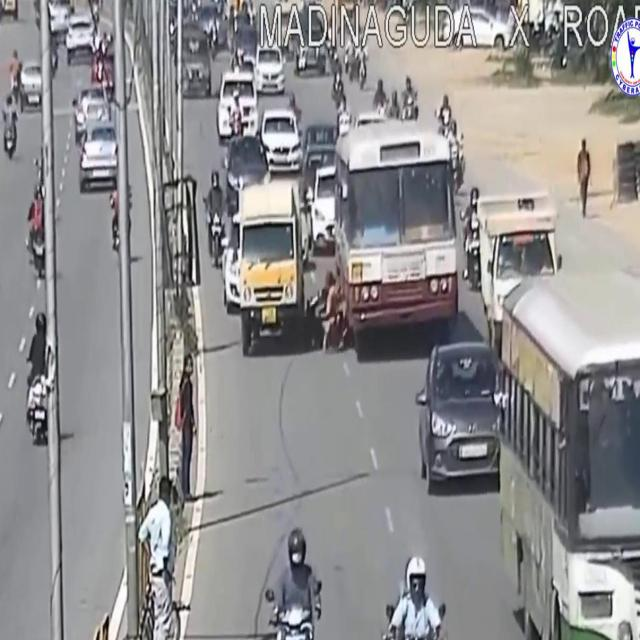accident: (228, 102, 464, 362)
non_accident: (406, 251, 640, 640), (178, 0, 307, 178), (51, 0, 119, 208)
